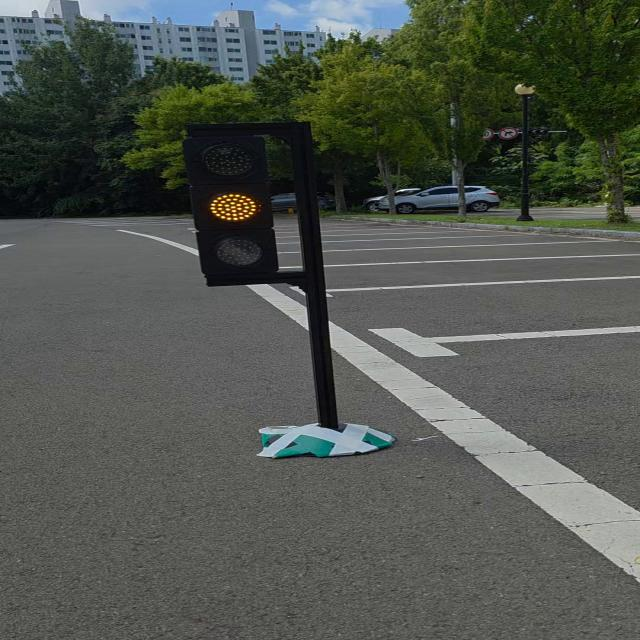yellow: (172, 119, 295, 292)
